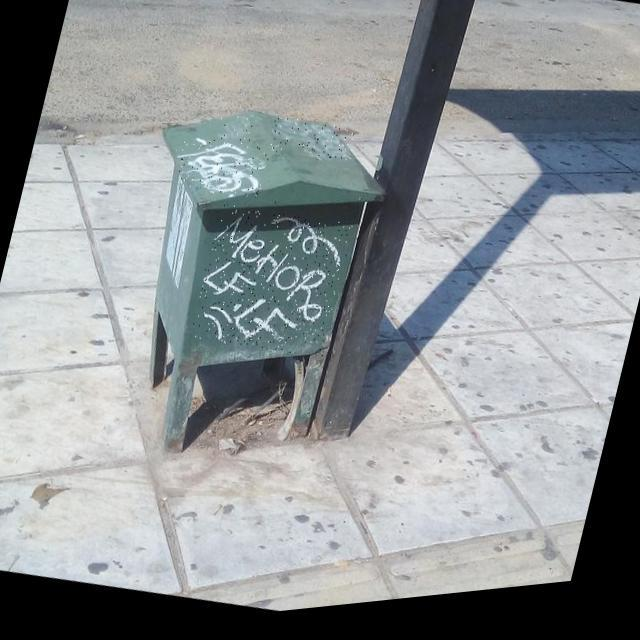-: (188, 198, 354, 376), (172, 130, 270, 212), (267, 115, 355, 176), (214, 114, 258, 153)
